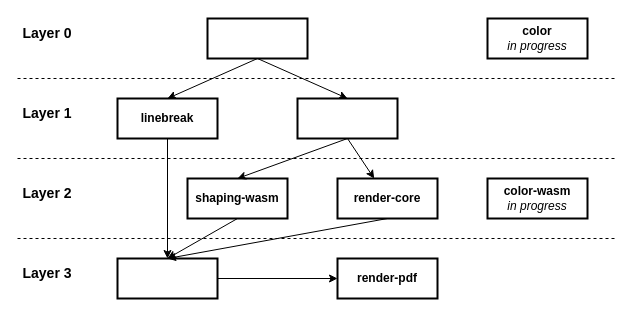
Some shapes in this 636 by 316 pixel diagram are drawn without their labels. Each missing label, with the centre of its shape:
"font-engine" belongs at point (347, 118).
"types" belongs at point (257, 38).
"typography" belongs at point (167, 278).
